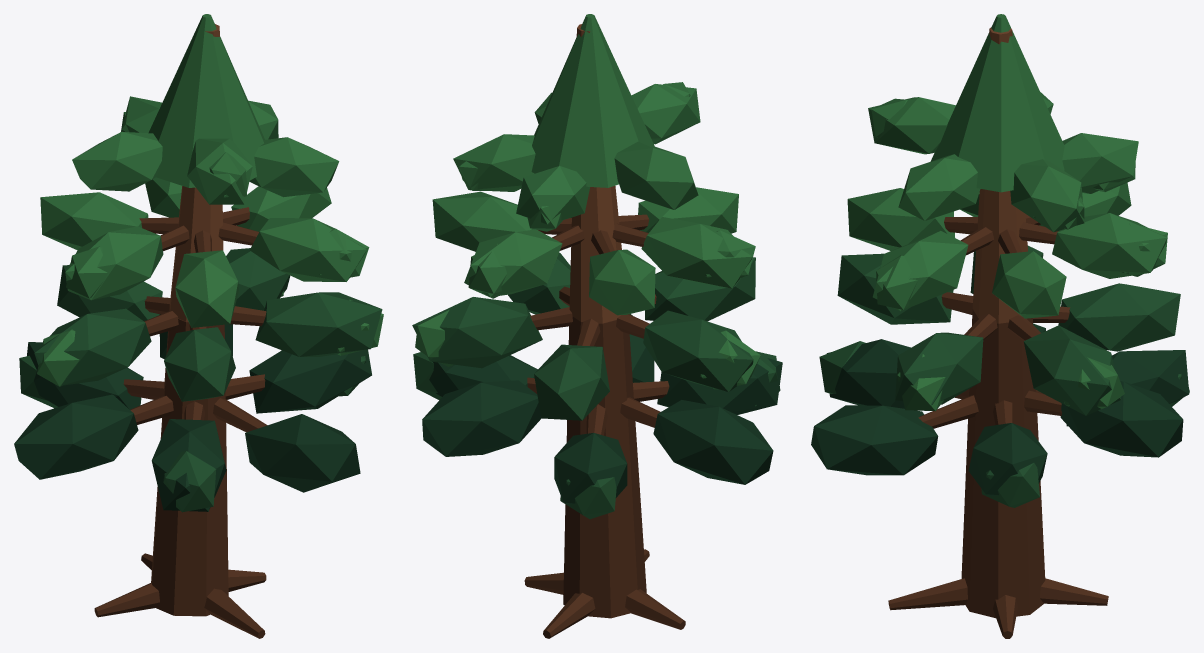
File: tree_pine_e.glb
The picture shows the model from 3 angles, left to right: view 1: azimuth 30°, elevation 25°; view 2: azimuth 150°, elevation 25°; view 3: azimuth 270°, elevation 25°; orthographic projection.
Parts seen in each view (by area): view 1: Leader_Needles.004, Trunk_Lower.004, Needles_1_4.004, Needles_2_5.004, Needles_1_6.002, Needles_1_1.004, Needles_3_5.004, Needles_2_3.004, Needles_3_2.004, Needles_2_4.004, Needles_4_2.003, Needles_3_4.004 (+29 smaller); view 2: Trunk_Lower.004, Leader_Needles.004, Needles_1_4.004, Needles_1_2.004, Needles_2_1.004, Needles_2_3.004, Needles_3_3.004, Needles_2_2.004, Needles_4_2.003, Needles_3_6.002, Trunk_Upper.004, Needles_3_1.004 (+25 smaller); view 3: Trunk_Lower.004, Leader_Needles.004, Needles_1_6.002, Needles_2_2.004, Needles_1_2.004, Needles_3_1.004, Needles_2_1.004, Needles_2_5.004, Trunk_Upper.004, Needles_4_4.003, Needles_3_4.004, Needles_3_5.004 (+24 smaller).
Part boxes in pixels (box(x1,y1,x2,y2)): Leader_Needles.004: box(148, 14, 264, 187); Trunk_Lower.004: box(151, 309, 228, 616); Needles_1_4.004: box(14, 394, 138, 479); Needles_2_5.004: box(255, 292, 382, 356); Needles_1_6.002: box(245, 414, 360, 492); Needles_1_1.004: box(249, 349, 371, 413); Needles_3_5.004: box(250, 218, 366, 281); Needles_2_3.004: box(34, 308, 151, 385); Needles_3_2.004: box(40, 192, 148, 250); Needles_2_4.004: box(164, 327, 235, 401); Needles_4_2.003: box(72, 131, 162, 191); Needles_3_4.004: box(175, 250, 238, 327); Trunk_Lower.004: box(563, 316, 646, 618); Leader_Needles.004: box(531, 14, 654, 187); Needles_1_4.004: box(653, 400, 773, 484); Needles_1_2.004: box(422, 380, 541, 456); Needles_2_1.004: box(412, 297, 542, 368); Needles_2_3.004: box(643, 310, 753, 392); Needles_3_3.004: box(641, 217, 752, 288); Needles_2_2.004: box(534, 344, 609, 420); Needles_4_2.003: box(614, 141, 698, 209); Needles_3_6.002: box(432, 191, 534, 251); Trunk_Upper.004: box(569, 24, 621, 323); Needles_3_1.004: box(464, 229, 562, 296); Trunk_Lower.004: box(961, 309, 1045, 618); Leader_Needles.004: box(930, 14, 1064, 192); Needles_1_6.002: box(811, 405, 938, 475); Needles_2_2.004: box(1058, 283, 1180, 351); Needles_1_2.004: box(1060, 381, 1183, 457); Needles_3_1.004: box(1052, 213, 1167, 278); Needles_2_1.004: box(1023, 325, 1120, 415); Needles_2_5.004: box(895, 332, 983, 405); Trunk_Upper.004: box(972, 27, 1027, 323); Needles_4_4.003: box(898, 154, 980, 220); Needles_3_4.004: box(847, 188, 954, 250); Needles_3_5.004: box(872, 231, 968, 311).
Size of the model in its own units: 3.64 by 5.72 by 3.31.
